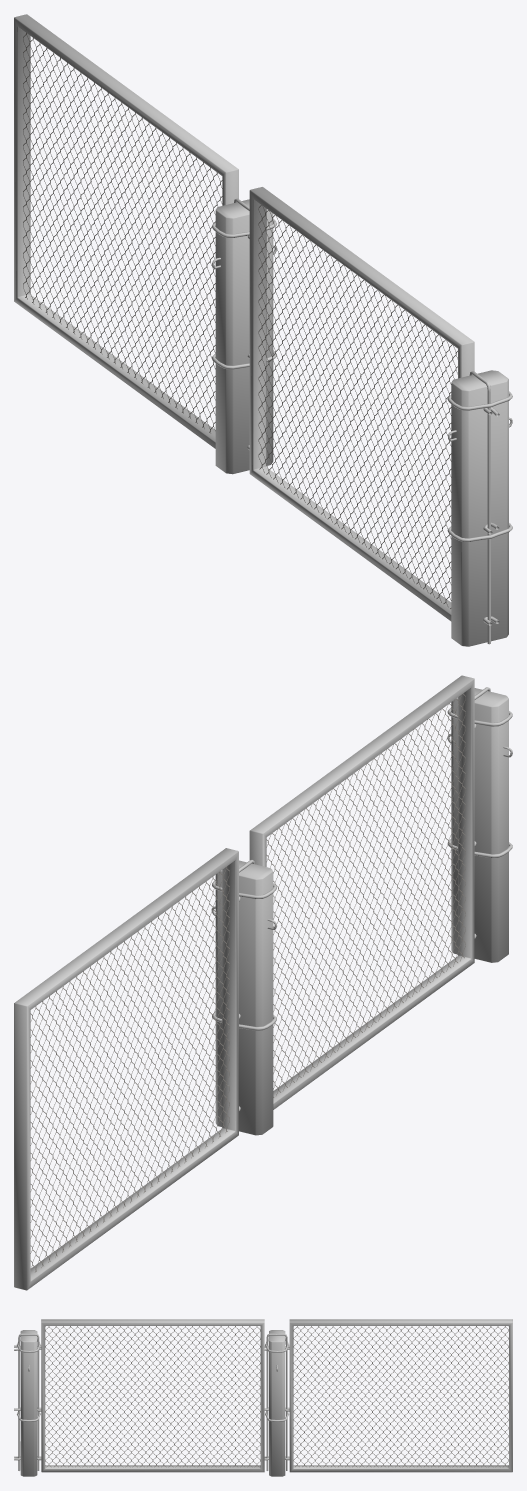
3 views of the same model, one above another, from view 1: azimuth 30°, elevation 25°; view 2: azimuth 150°, elevation 25°; view 3: azimuth 270°, elevation 25° (orthographic). The views are drawn at different scales.
Visible parts, largest first — view 1: Fence_Chainlink_6m_0; view 2: Fence_Chainlink_6m_0; view 3: Fence_Chainlink_6m_0.
Part boxes in pixels (x1,y1,x2,y2): Fence_Chainlink_6m_0: (14, 14, 512, 646); Fence_Chainlink_6m_0: (14, 675, 512, 1290); Fence_Chainlink_6m_0: (14, 1319, 512, 1476).
Bounding box in the file's own units: 0.4754 × 2 × 6.03.
